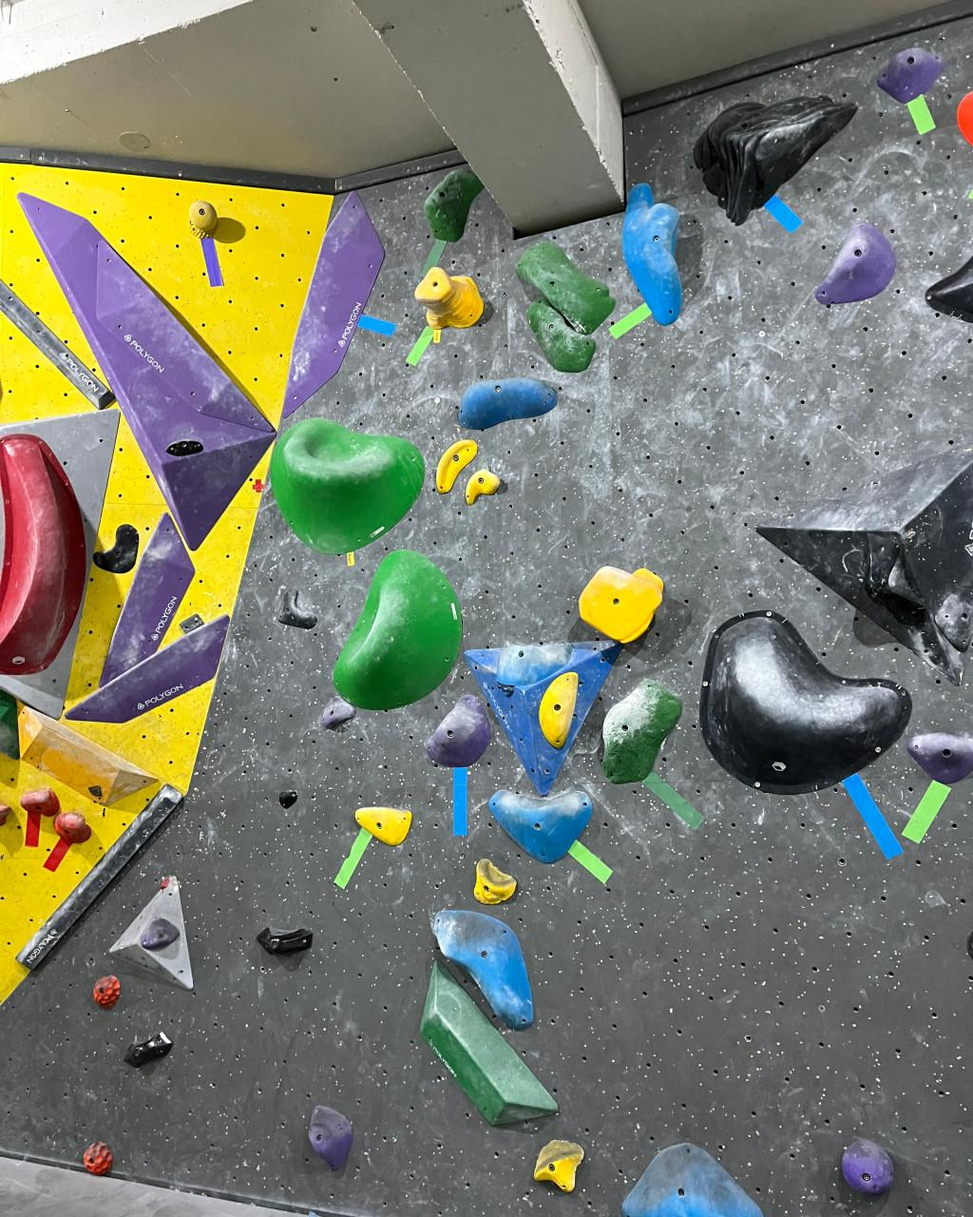hold: (17, 193, 274, 548), (700, 610, 910, 794), (17, 786, 181, 971), (282, 193, 383, 418), (420, 960, 557, 1125), (694, 95, 856, 224), (0, 435, 86, 675), (272, 418, 424, 553), (333, 550, 462, 709), (68, 615, 227, 723), (100, 513, 192, 686), (0, 280, 114, 408), (20, 705, 159, 807), (432, 910, 533, 1029), (623, 1143, 761, 1216), (517, 242, 614, 332), (623, 184, 681, 324), (603, 679, 681, 782), (489, 789, 592, 862), (816, 222, 895, 305), (866, 530, 931, 630), (579, 567, 662, 644), (460, 378, 557, 430), (415, 265, 483, 339), (529, 300, 595, 371), (426, 695, 490, 767), (425, 168, 484, 241), (878, 48, 943, 103), (498, 642, 573, 686), (908, 733, 972, 784), (926, 258, 972, 322), (308, 1105, 352, 1169), (842, 1140, 892, 1194), (541, 673, 576, 746), (536, 1140, 583, 1191), (935, 588, 972, 651), (436, 439, 477, 493), (93, 525, 138, 573), (355, 807, 411, 845), (476, 859, 516, 904), (124, 1031, 172, 1067), (277, 589, 315, 628), (258, 928, 312, 954), (140, 918, 180, 951), (466, 469, 500, 505), (320, 695, 356, 728), (54, 812, 91, 844), (20, 786, 59, 816), (0, 691, 17, 759), (189, 200, 217, 238), (84, 1143, 111, 1174), (94, 976, 120, 1008), (166, 439, 202, 456), (278, 790, 297, 809), (0, 803, 10, 825)
volume: (757, 453, 972, 682), (0, 407, 124, 716), (465, 640, 620, 794), (110, 877, 192, 989), (89, 786, 101, 798)
